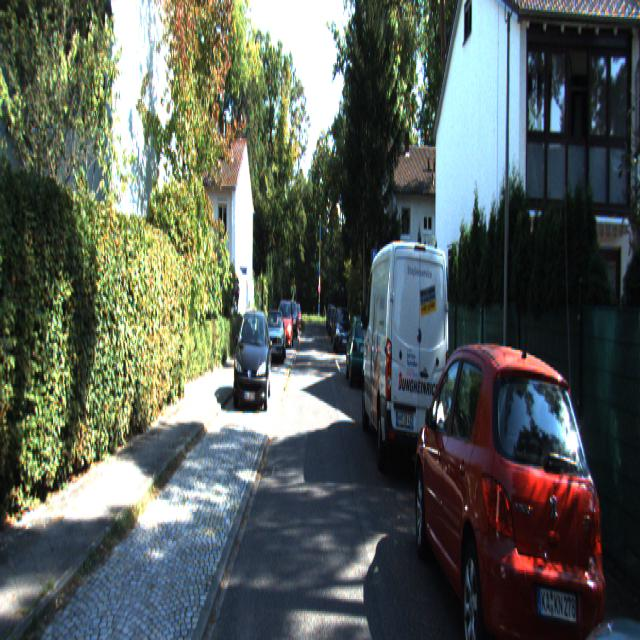Car: (411, 324, 617, 638), (361, 230, 450, 495), (233, 302, 270, 413), (346, 313, 377, 390), (263, 304, 285, 358), (333, 305, 352, 354), (276, 299, 293, 348)
